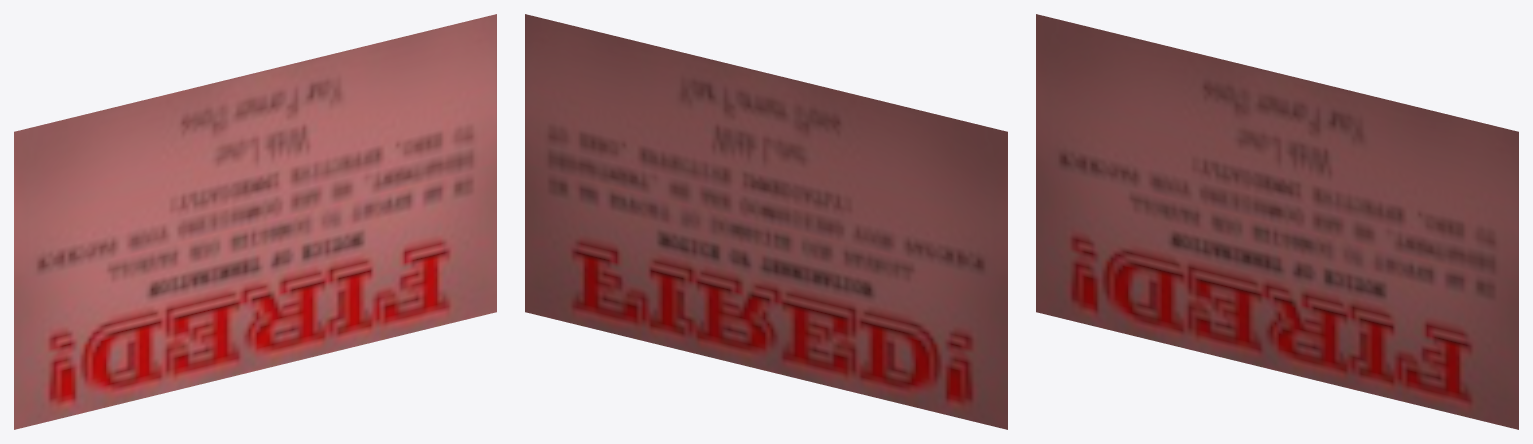
File: pink-slip.glb
3 views of the same model, side by side, from view 1: azimuth 30°, elevation 25°; view 2: azimuth 150°, elevation 25°; view 3: azimuth 330°, elevation 25° (orthographic).
Visible parts, largest first — view 1: pink-slip; view 2: pink-slip; view 3: pink-slip.
Part boxes in pixels (x1,y1,x2,y2): pink-slip: (14, 14, 496, 429); pink-slip: (525, 14, 1007, 429); pink-slip: (1036, 14, 1518, 429).
Size of the model in its own units: 0.1818 by 0.1072 by 0.
Materials: 1 (1 with a texture image).
